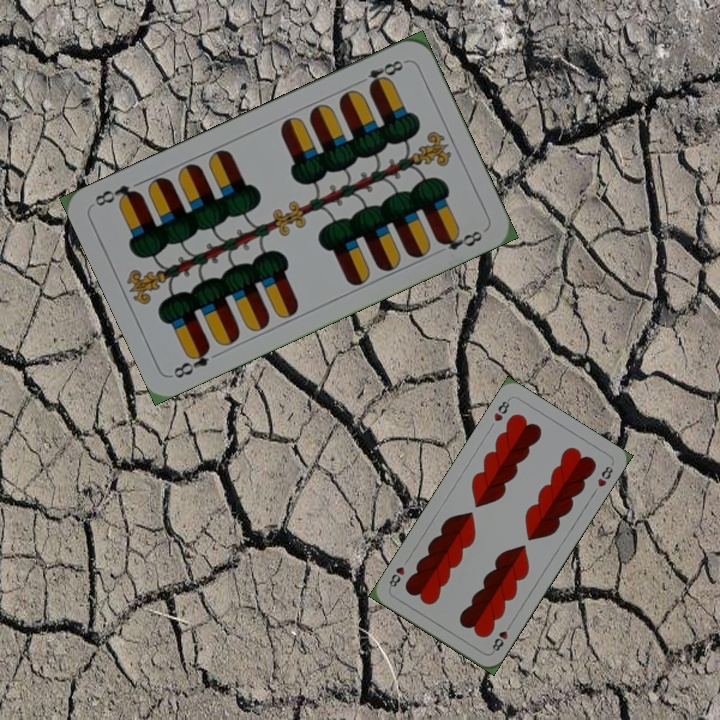E8: (353, 56, 409, 92), (169, 342, 213, 381)
H8: (488, 619, 514, 655), (490, 395, 513, 424)
